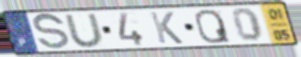0: (231, 7, 265, 44)
4: (117, 11, 146, 47)
K: (148, 11, 186, 45)
Q: (193, 8, 233, 45)
S: (31, 12, 71, 52)
U: (62, 12, 107, 49)
